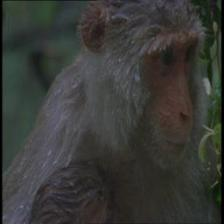monkey: (76, 2, 212, 184)
